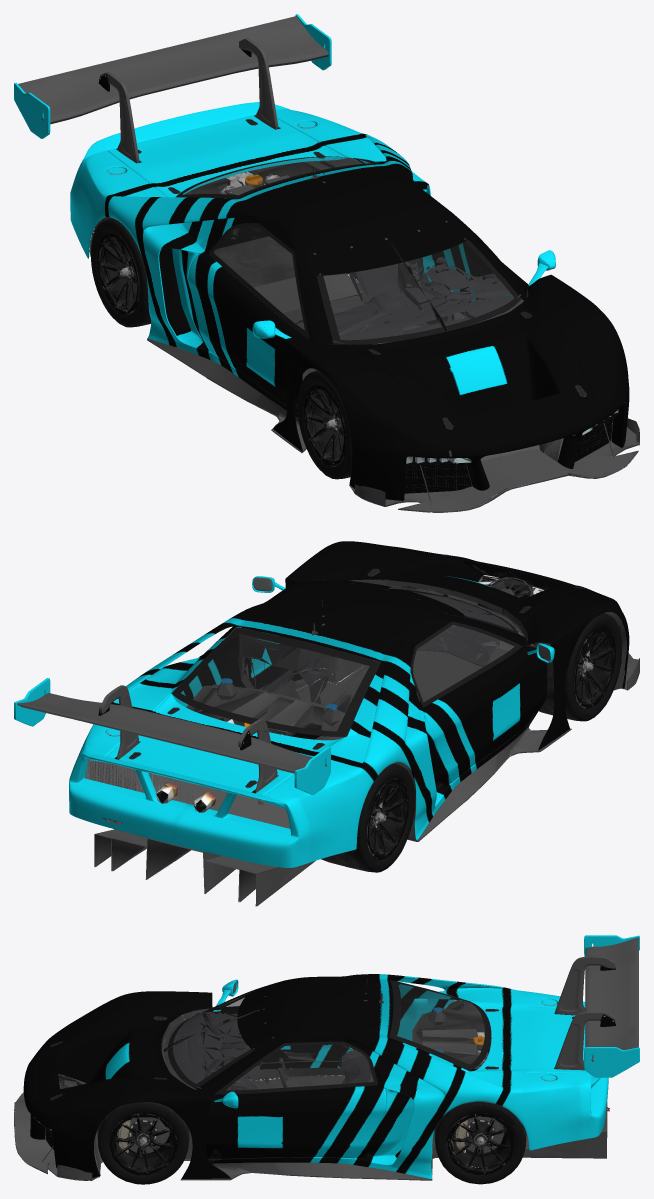
Rendered from vector_gt3_lod0.glb.
The picture shows the model from 3 angles, top to bottom: view 1: azimuth 30°, elevation 25°; view 2: azimuth 150°, elevation 25°; view 3: azimuth 270°, elevation 25°; orthographic projection. The views are drawn at different scales.
Visible parts, largest first — view 1: Body, Wheel_RR, Wheel_FR; view 2: Body, Wheel_RR, Wheel_FR; view 3: Body, Wheel_FL, Wheel_RL.
Boxes of the visible parts, x1,y1,x2,y2 form: Body: (14, 14, 639, 512); Wheel_RR: (91, 218, 151, 327); Wheel_FR: (297, 370, 352, 479); Body: (14, 541, 639, 906); Wheel_RR: (321, 763, 414, 872); Wheel_FR: (532, 613, 622, 721); Body: (14, 935, 639, 1180); Wheel_FL: (97, 1102, 189, 1184); Wheel_RL: (434, 1101, 526, 1184).
Bounding box in the file's own units: 2.12 × 1.27 × 4.69.
6 materials, 5 textured.
